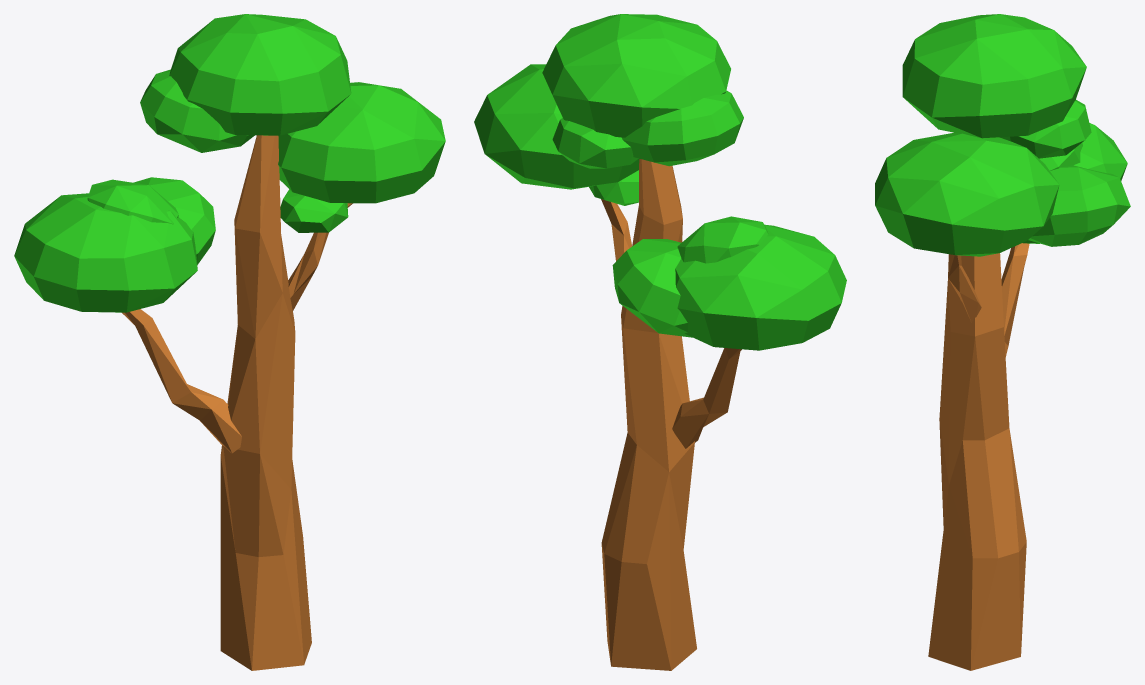
The model's file is Tree4 Optimized.fbx.
3 renders of one model, left to right at view 1: azimuth 30°, elevation 25°; view 2: azimuth 150°, elevation 25°; view 3: azimuth 270°, elevation 25°, orthographic. The views are drawn at different scales.
Visible parts, largest first — view 1: Tree 4 - Optimized; view 2: Tree 4 - Optimized; view 3: Tree 4 - Optimized.
Boxes of the visible parts, x1,y1,x2,y2 form: Tree 4 - Optimized: (14,14,445,670); Tree 4 - Optimized: (474,14,846,670); Tree 4 - Optimized: (875,14,1130,670).
Bounding box in the file's own units: 4.62 × 7.33 × 2.71.
